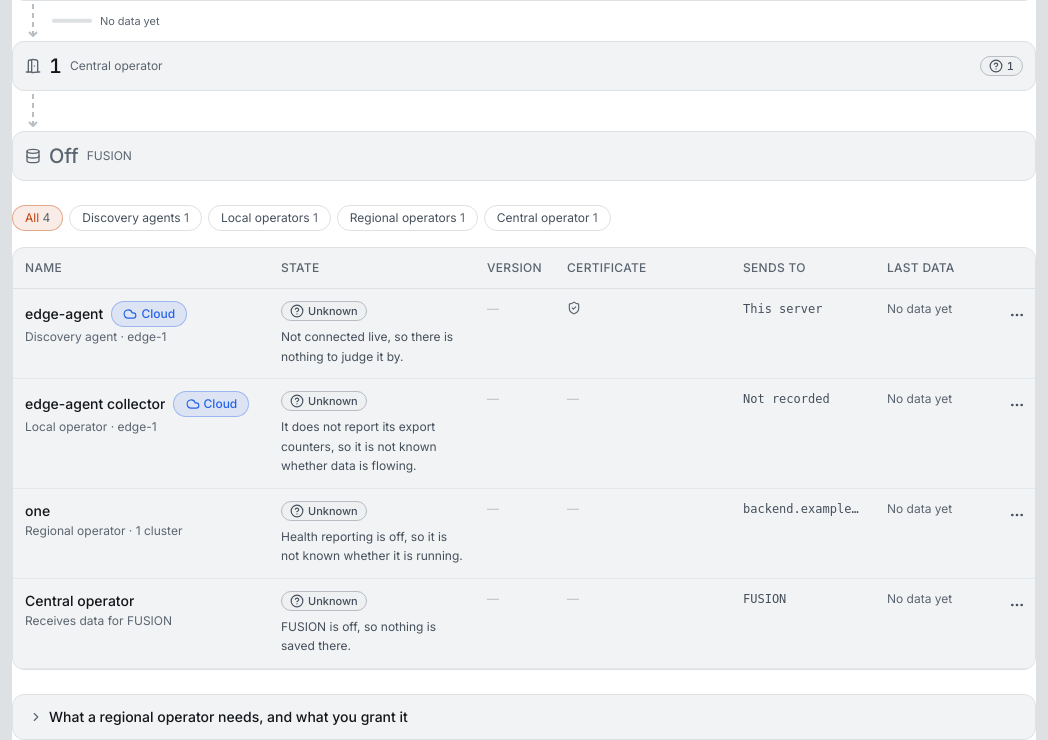
Test: PipelinePage › every row has the same menu button in the same cell, named for it; Escape closes the menu
(page scrolled)
expect the 2nd row is shown: met, box top-left (13, 288), bottom-right (1035, 378)
expect the row that starts with "edge-agent collector" is shown: met, box top-left (13, 378), bottom-right (1035, 488)
Click the button named "Actions for one". click: [1017, 514]
box: top-left (999, 500), bottom-right (1035, 528)
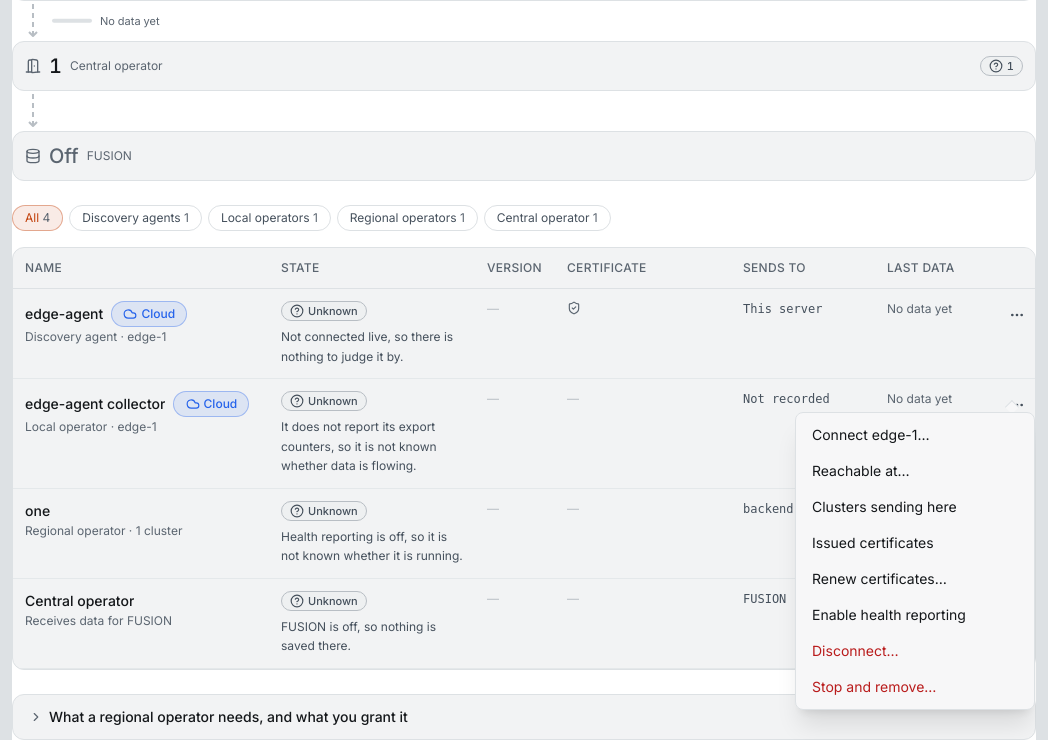
Press Escape
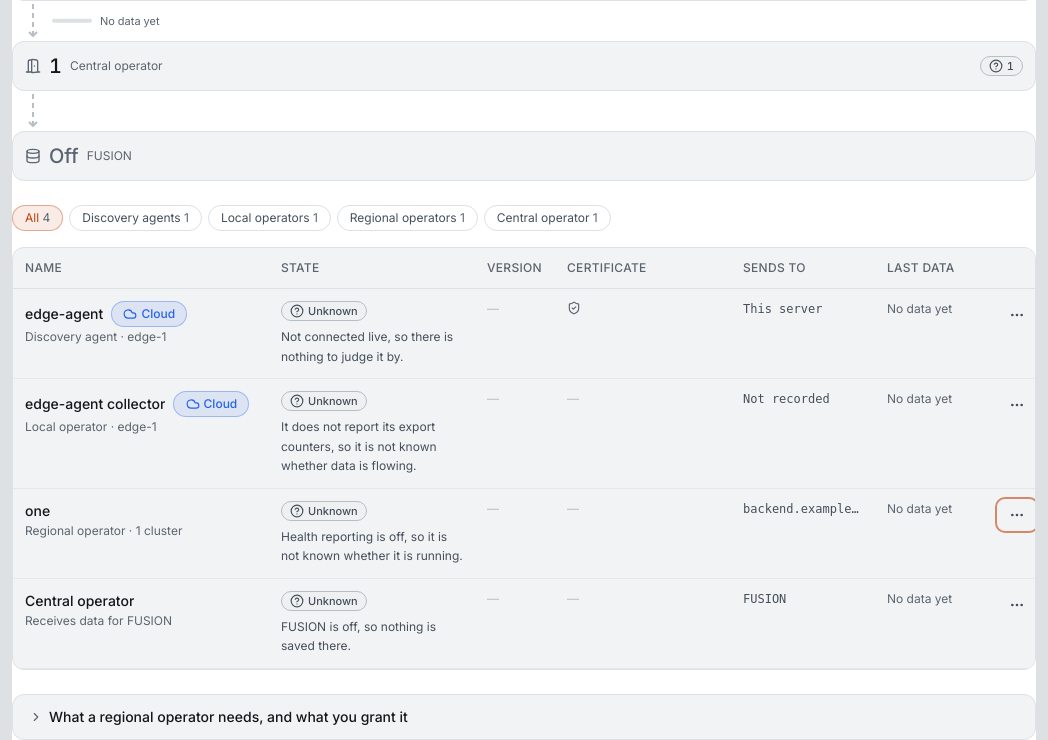
expect the menu is gone: met
Click the button with test id "component-menu-agent:a1". click: [1017, 315]
box: top-left (999, 301), bottom-right (1035, 329)
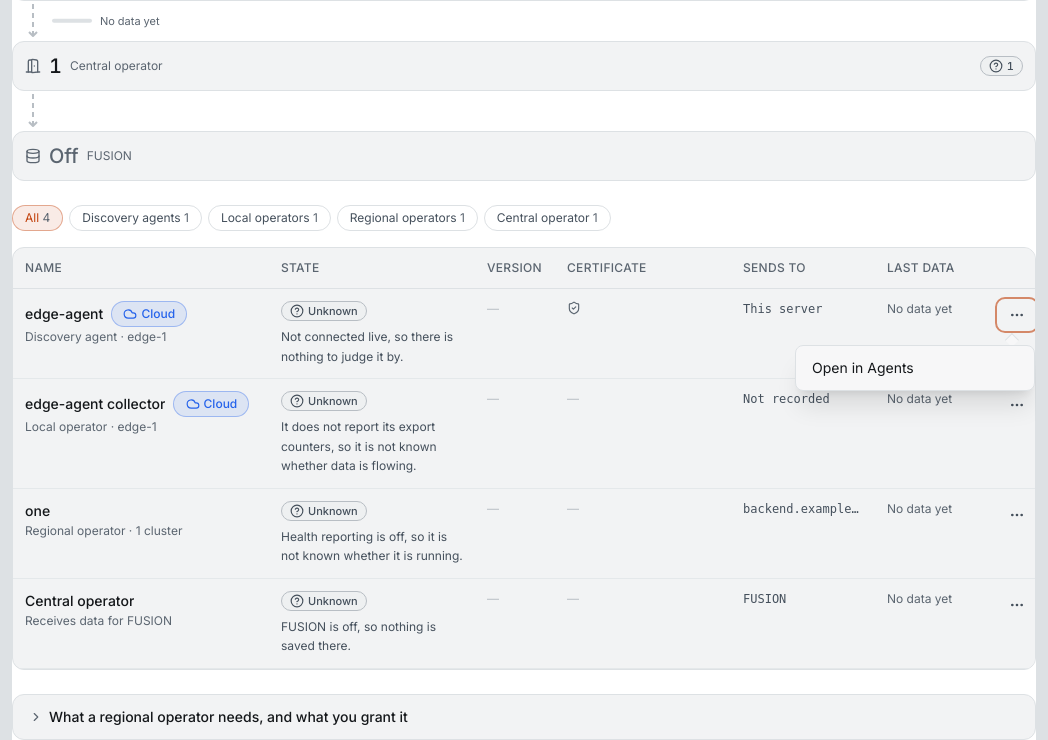
expect the menu items read "Open in Agents", in this order: met, box top-left (800, 350), bottom-right (1030, 386)
